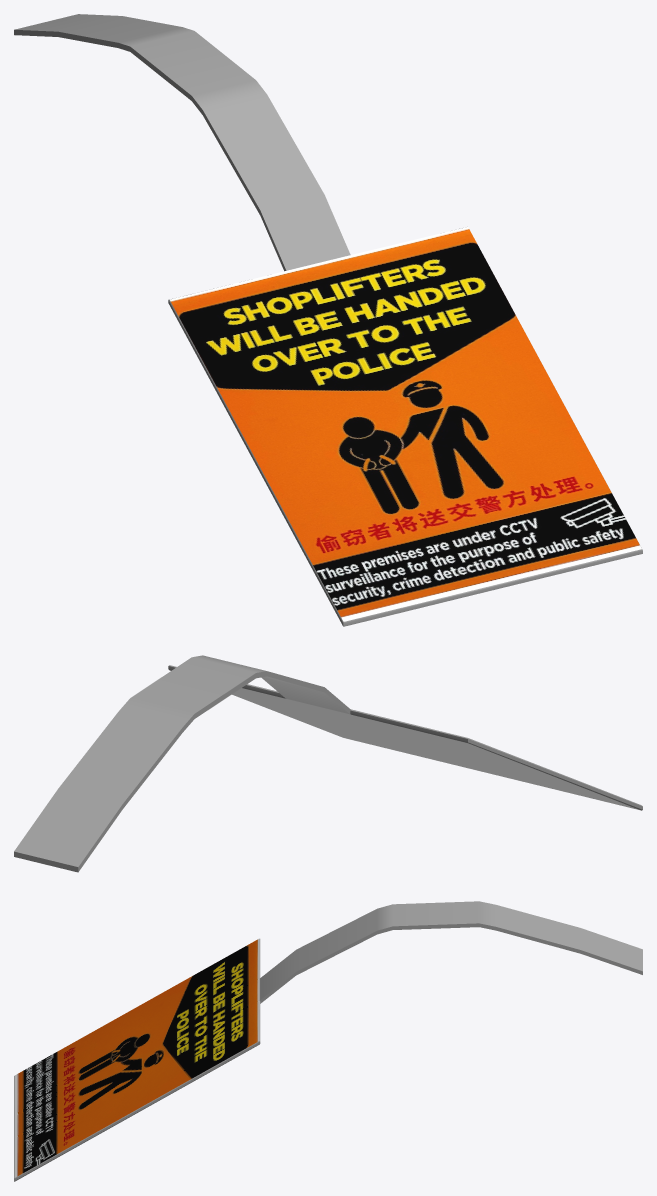
Rendered from wobbler 1.fbx.
The picture shows the model from 3 angles, top to bottom: view 1: azimuth 30°, elevation 25°; view 2: azimuth 150°, elevation 25°; view 3: azimuth 270°, elevation 25°; orthographic projection. The views are drawn at different scales.
Parts seen in each view (by area): view 1: pCube3; view 2: pCube3; view 3: pCube3.
Boxes of the visible parts, <box> form: pCube3: <box>14,14,642,626</box>; pCube3: <box>14,655,642,872</box>; pCube3: <box>14,901,642,1181</box>.
Bounding box in the file's own units: 4.66 × 4.61 × 12.04.
2 materials, 1 textured.
